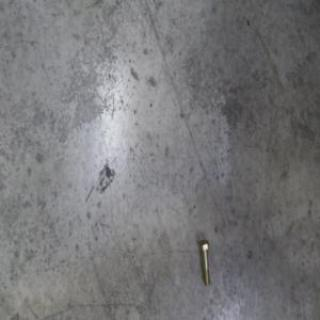Bolttrack_idkeyframe: (198, 237, 210, 287)
